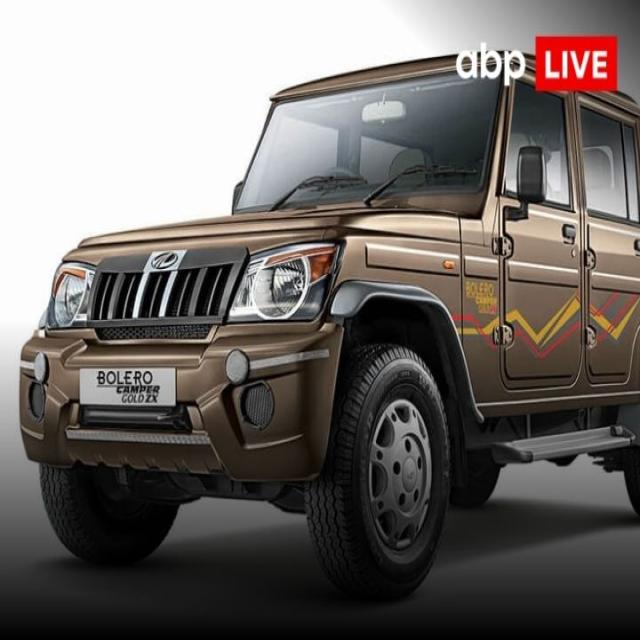light_vehicle: (9, 64, 640, 584)
